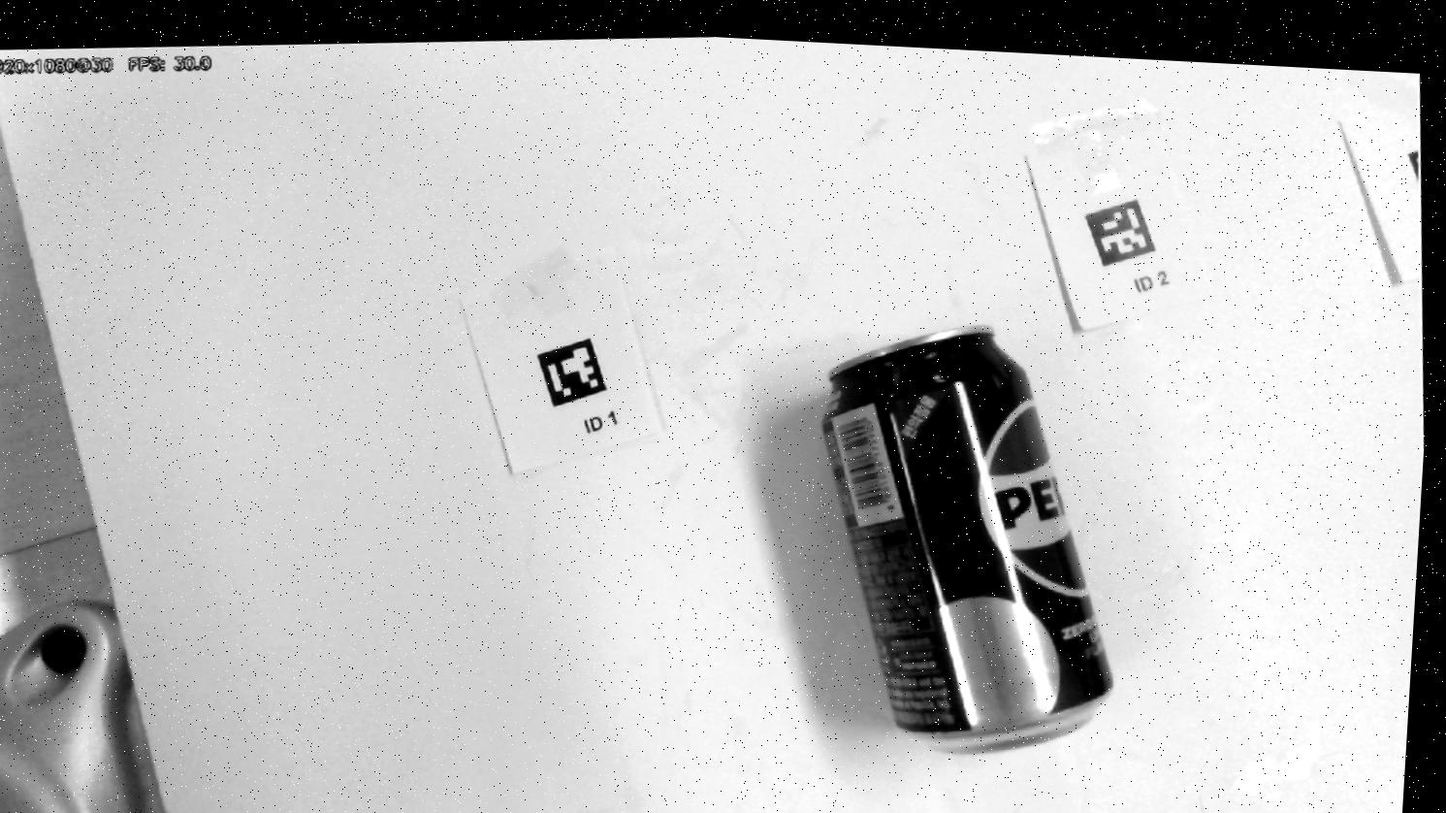can_pepsi_zero: (822, 326, 1111, 748)
